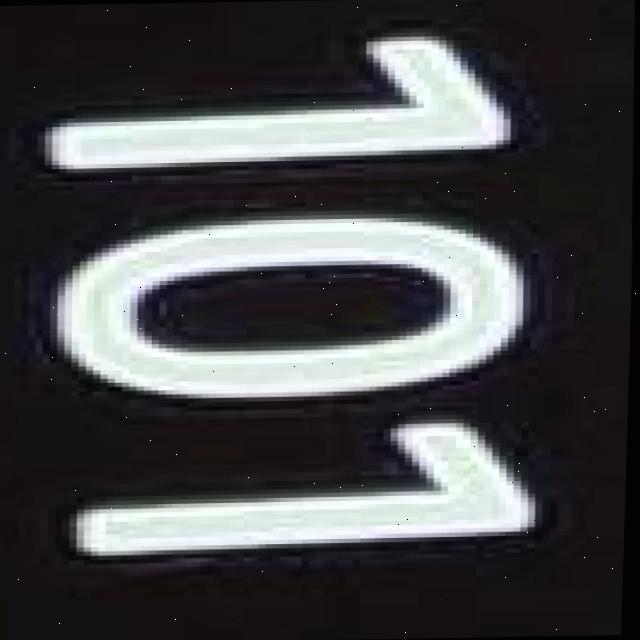character: (37, 202, 538, 413), (25, 20, 522, 184), (54, 412, 545, 566)
